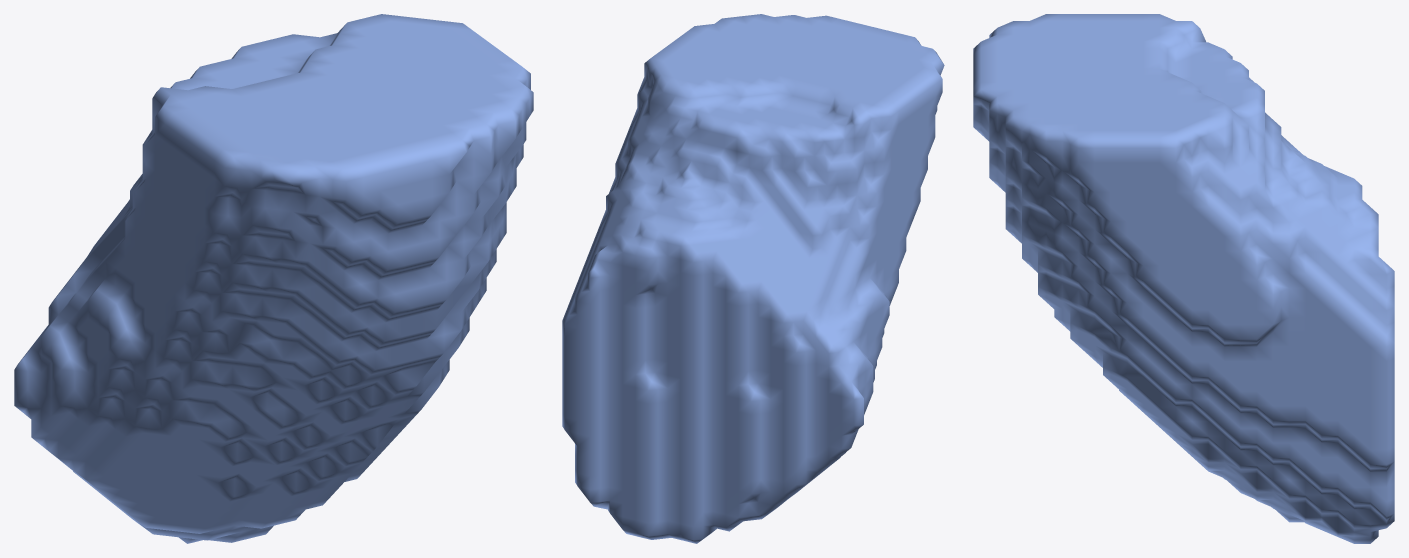
3 views of the same model, side by side, from view 1: azimuth 30°, elevation 25°; view 2: azimuth 150°, elevation 25°; view 3: azimuth 270°, elevation 25° (orthographic). The views are drawn at different scales.
Parts seen in each view (by area): view 1: structure; view 2: structure; view 3: structure.
Boxes of the visible parts, x1,y1,x2,y2 form: structure: [14, 14, 533, 543]; structure: [562, 14, 944, 543]; structure: [973, 14, 1394, 543].
Bounding box in the file's own units: 35.2 × 48 × 41.6.
